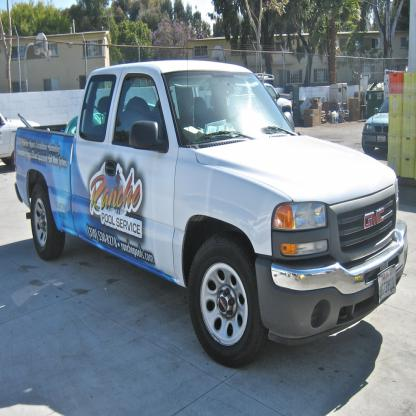Truck: (14, 61, 408, 367)
